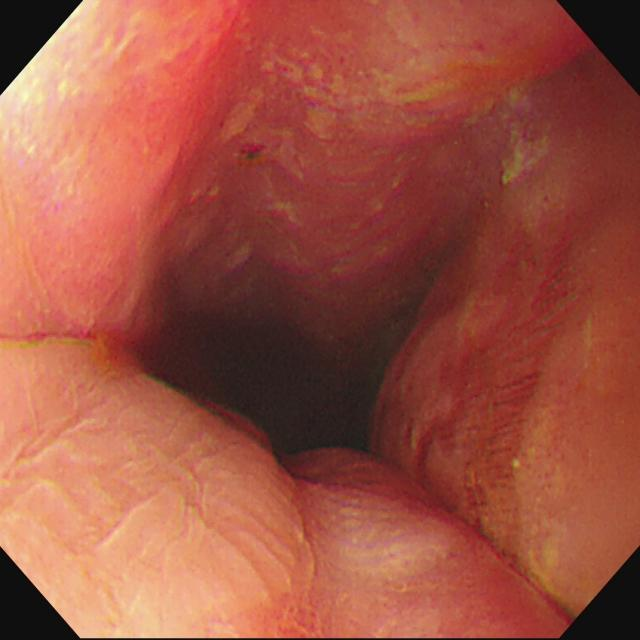A: (361, 252, 573, 512)
E: (193, 293, 377, 468)
J: (219, 25, 487, 183), (501, 84, 550, 187)
